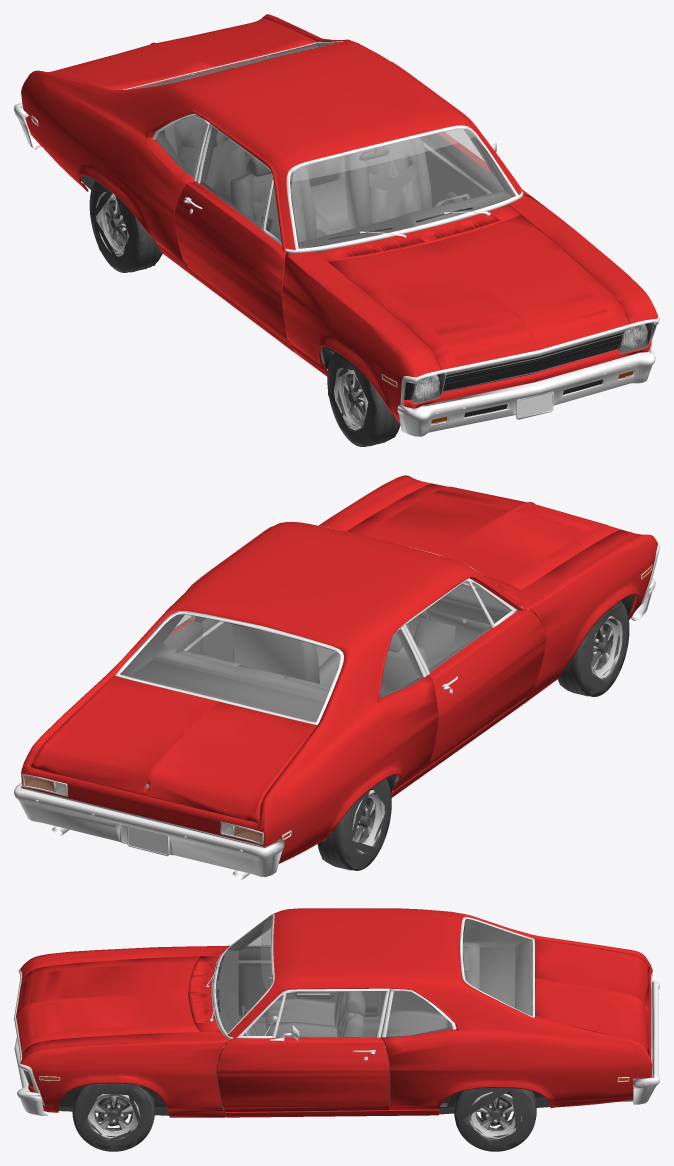
The model's file is oldcar.glb.
3 renders of one model, top to bottom at view 1: azimuth 30°, elevation 25°; view 2: azimuth 150°, elevation 25°; view 3: azimuth 270°, elevation 25°, orthographic. The views are drawn at different scales.
Visible parts, largest first — view 1: body_01, body_04, glass_01, body_05, chrome_04, interior_09, interior_05, dgray_03, chrome_03, interior_06, black_03, body_03 (+14 smaller); view 2: body_04, body_05, body_01, glass_01, dgray_03, chrome_04, chrome_03, interior_09, interior_05, dgray_08, tire_03, tire_01 (+9 smaller); view 3: body_04, body_01, body_05, glass_01, dgray_03, chrome_03, tire_07, tire_05, interior_07, chrome_04, interior_05, body_03 (+12 smaller).
Boxes of the visible parts, <box> form: body_01: <box>282,194,657,423</box>; body_04: <box>21,14,521,266</box>; glass_01: <box>132,43,515,248</box>; body_05: <box>47,18,530,351</box>; chrome_04: <box>14,103,655,436</box>; interior_09: <box>345,138,431,229</box>; interior_05: <box>149,116,348,234</box>; dgray_03: <box>137,42,515,363</box>; chrome_03: <box>31,41,523,387</box>; interior_06: <box>230,166,316,242</box>; black_03: <box>404,324,655,417</box>; body_03: <box>317,204,520,261</box>; body_04: <box>21,522,521,863</box>; body_05: <box>30,526,546,822</box>; body_01: <box>319,475,657,704</box>; glass_01: <box>120,564,511,721</box>; dgray_03: <box>121,578,526,782</box>; chrome_04: <box>14,578,655,877</box>; chrome_03: <box>22,525,652,845</box>; interior_09: <box>232,623,319,683</box>; interior_05: <box>152,648,330,701</box>; dgray_08: <box>417,584,509,632</box>; tire_03: <box>321,779,391,868</box>; tire_01: <box>559,602,628,695</box>; body_04: <box>228,908,652,1109</box>; body_01: <box>16,946,230,1117</box>; body_05: <box>217,939,649,1117</box>; glass_01: <box>215,914,531,1037</box>; dgray_03: <box>188,916,532,1109</box>; chrome_03: <box>39,914,652,1082</box>; tire_07: <box>455,1087,534,1150</box>; tire_05: <box>74,1083,151,1151</box>; interior_07: <box>266,998,337,1036</box>; chrome_04: <box>14,980,659,1116</box>; interior_05: <box>386,942,479,1094</box>; body_03: <box>188,956,219,1031</box>.
Size of the model in its own units: 1.95 by 1.39 by 4.99.
16 materials, 2 textured.
